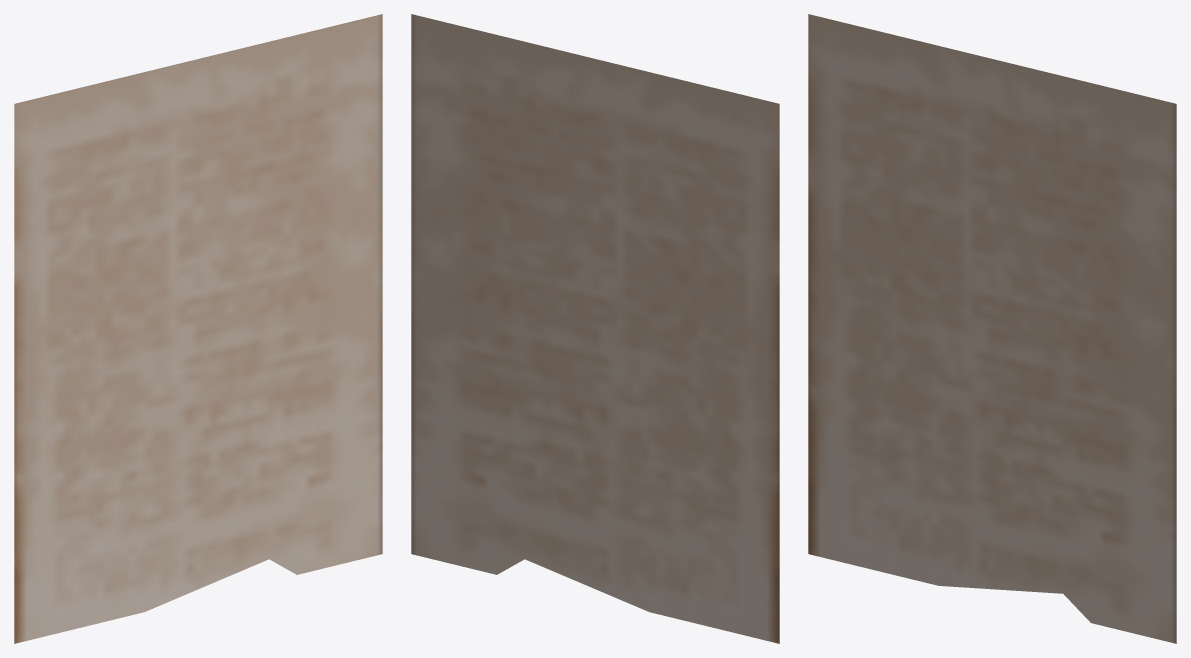
The model's file is Paper_D.fbx.
The picture shows the model from 3 angles, left to right: view 1: azimuth 30°, elevation 25°; view 2: azimuth 150°, elevation 25°; view 3: azimuth 330°, elevation 25°; orthographic projection.
Visible parts, largest first — view 1: Paper_D; view 2: Paper_D; view 3: Paper_D.
Boxes of the visible parts, x1,y1,x2,y2 form: Paper_D: [14, 14, 382, 643]; Paper_D: [411, 14, 779, 643]; Paper_D: [808, 14, 1176, 643].
Bounding box in the file's own units: 0.3325 × 0.4656 × 2.85e-17.
